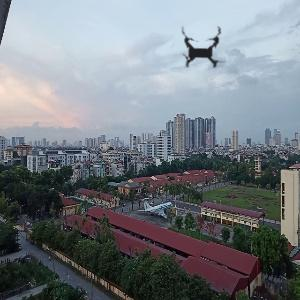drone: (157, 5, 247, 95)
